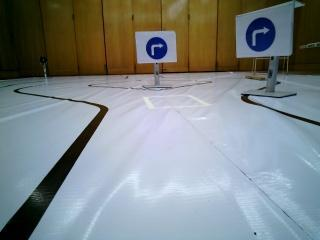right: (235, 17, 291, 57), (134, 32, 178, 60)
